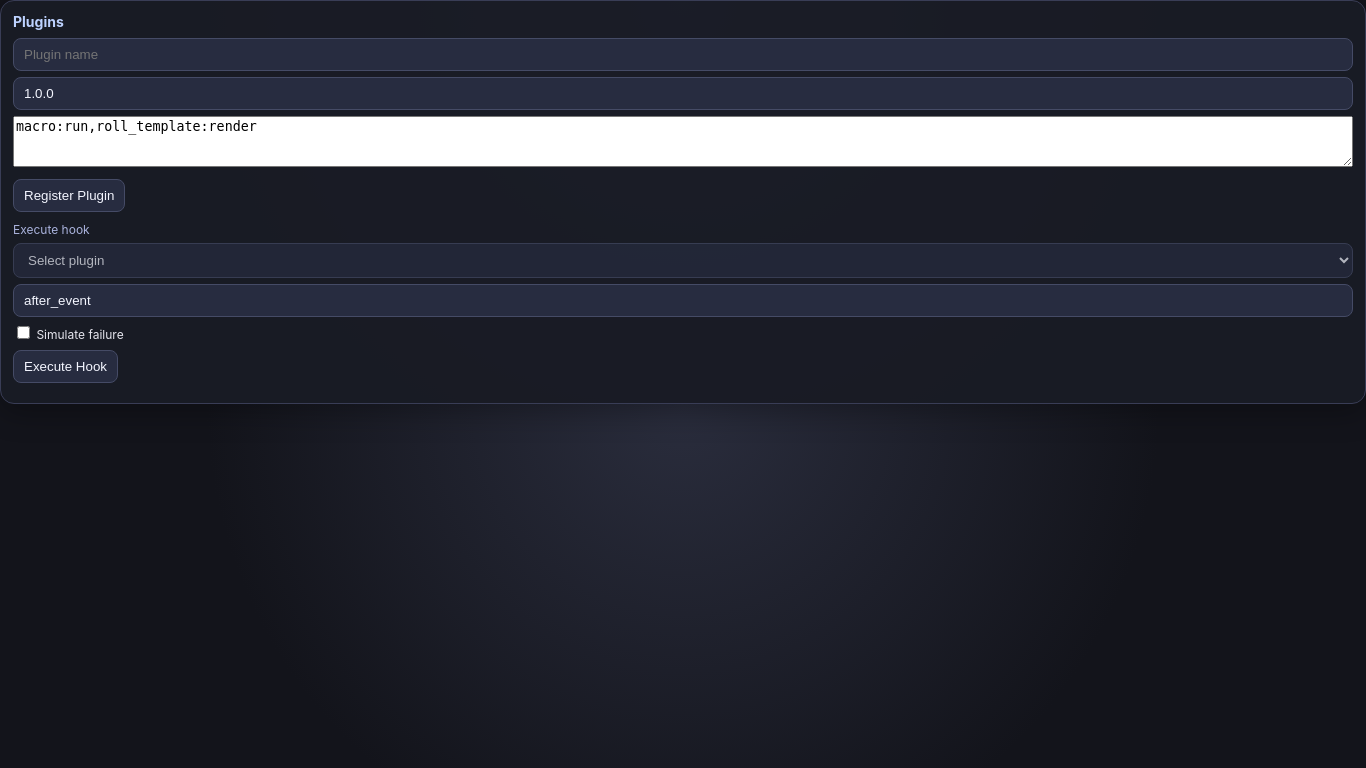
Test: Phase 4 panels › shows validation for empty plugin capability segment and blocks register
Type "MyPlugin" into the field with placeholder "Plugin name". click: (683, 54)
box: x1=13 y1=38 x2=1353 y2=71
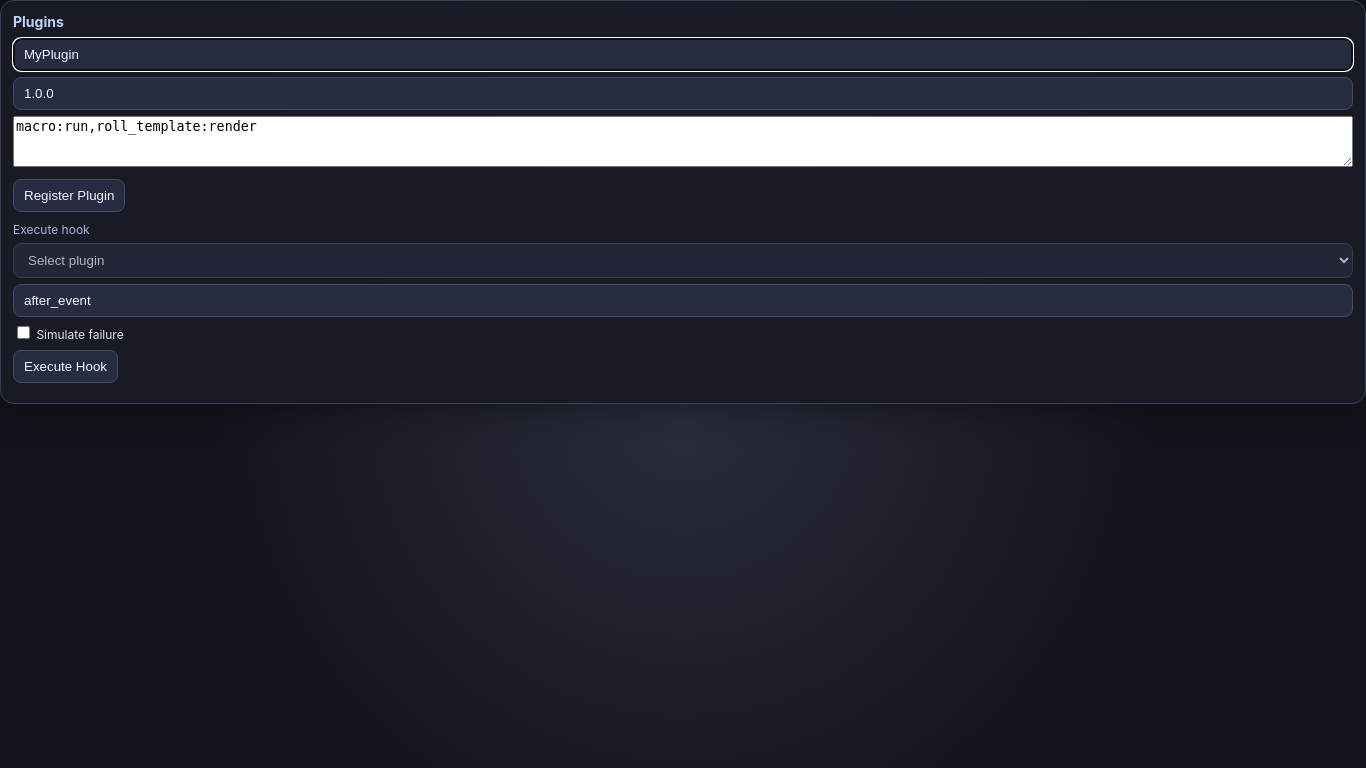
Replace the text in the text box with placeholder "Capabilities (one per line or comma separated)" with "macro:". click: (683, 142)
box: x1=13 y1=116 x2=1353 y2=167
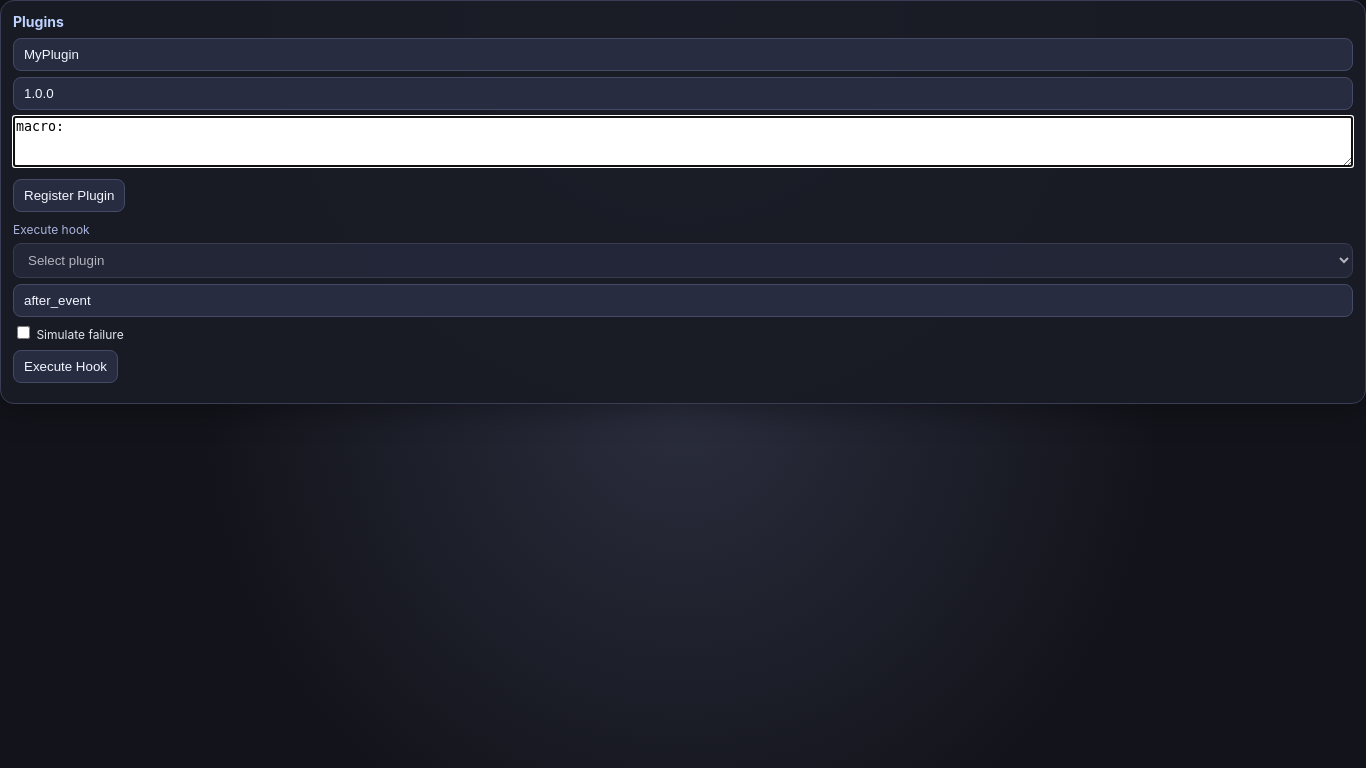
Click the button "Register Plugin". click: (69, 196)
box: x1=13 y1=179 x2=125 y2=212
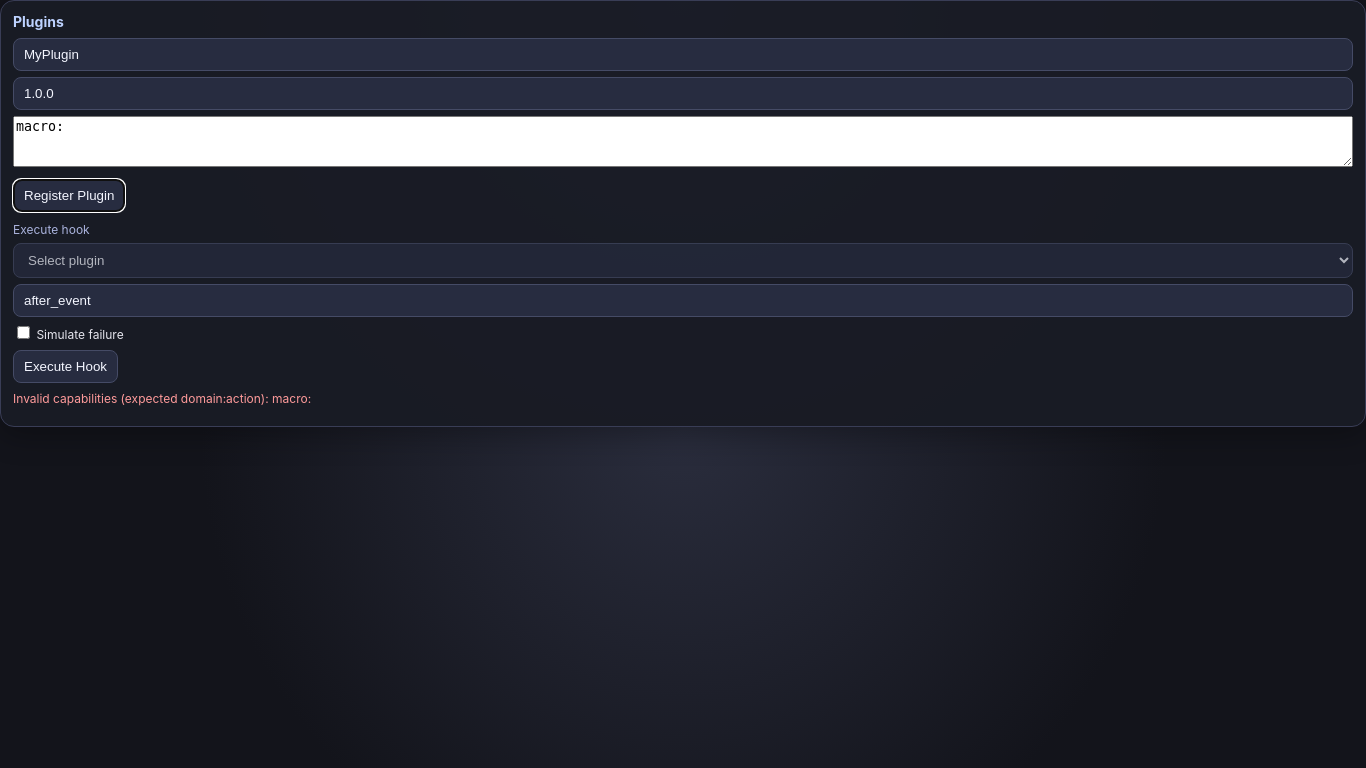
expect the text "Invalid capabilities (expected domain:action): macro:" is shown: met, box x1=13 y1=391 x2=311 y2=406
